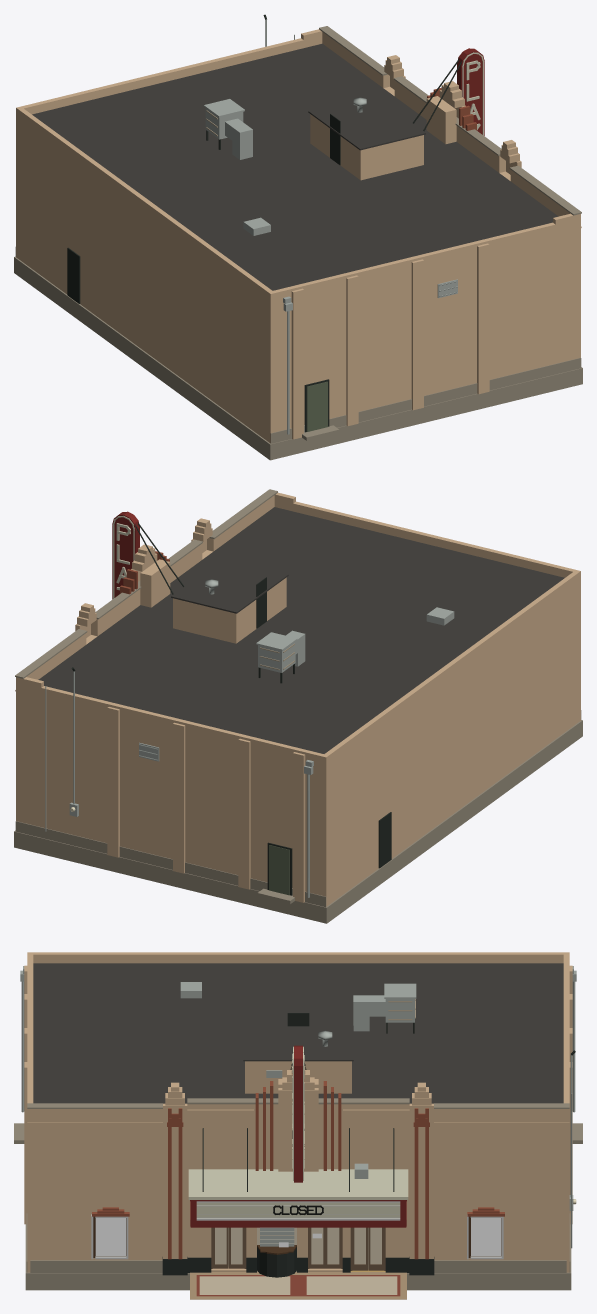
File: SM_Town_Cinema_Shell_LOD2.fbx
3 renders of one model, top to bottom at view 1: azimuth 30°, elevation 25°; view 2: azimuth 150°, elevation 25°; view 3: azimuth 270°, elevation 25°, orthographic. The views are drawn at different scales.
Visible parts, largest first — view 1: SM_Town_Cinema_Shell_LOD2; view 2: SM_Town_Cinema_Shell_LOD2; view 3: SM_Town_Cinema_Shell_LOD2.
Boxes of the visible parts, x1,y1,x2,y2 form: SM_Town_Cinema_Shell_LOD2: (14, 14, 582, 460); SM_Town_Cinema_Shell_LOD2: (14, 489, 582, 923); SM_Town_Cinema_Shell_LOD2: (14, 952, 582, 1299).
Bounding box in the file's own units: 16.72 × 21.22 × 10.36.
